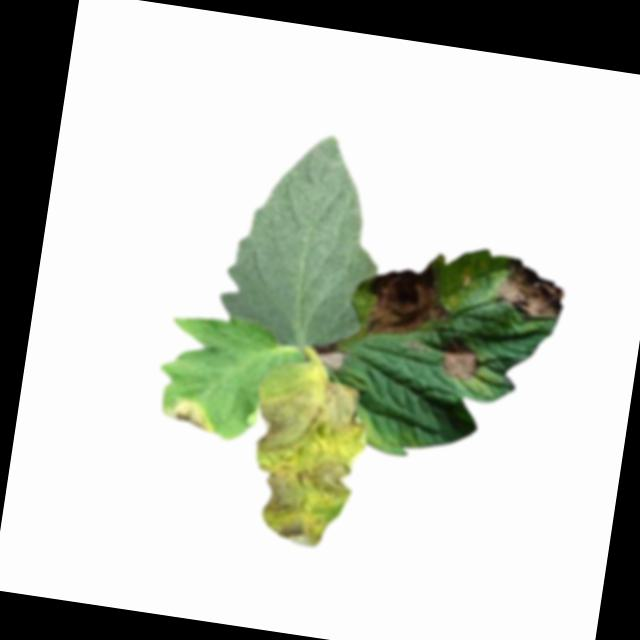Late_blight: (236, 370, 372, 552), (366, 247, 457, 346), (490, 254, 570, 325), (164, 396, 221, 435), (437, 338, 480, 381), (317, 346, 346, 372)
healthy: (210, 121, 395, 357)
